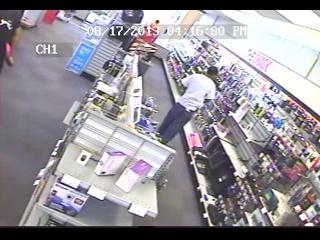Normal: (153, 66, 220, 146), (0, 10, 25, 74)
